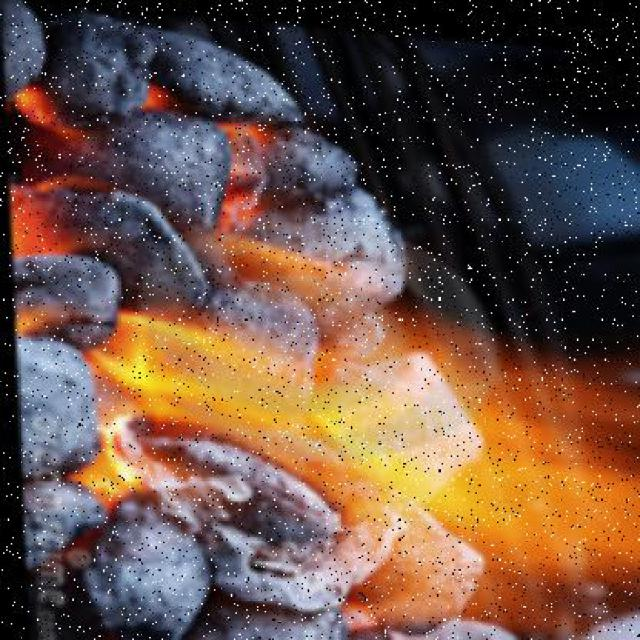fire: (84, 250, 640, 606)
